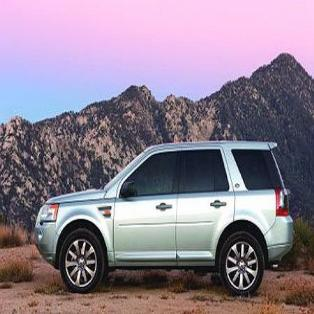Auto: (36, 140, 294, 296)
